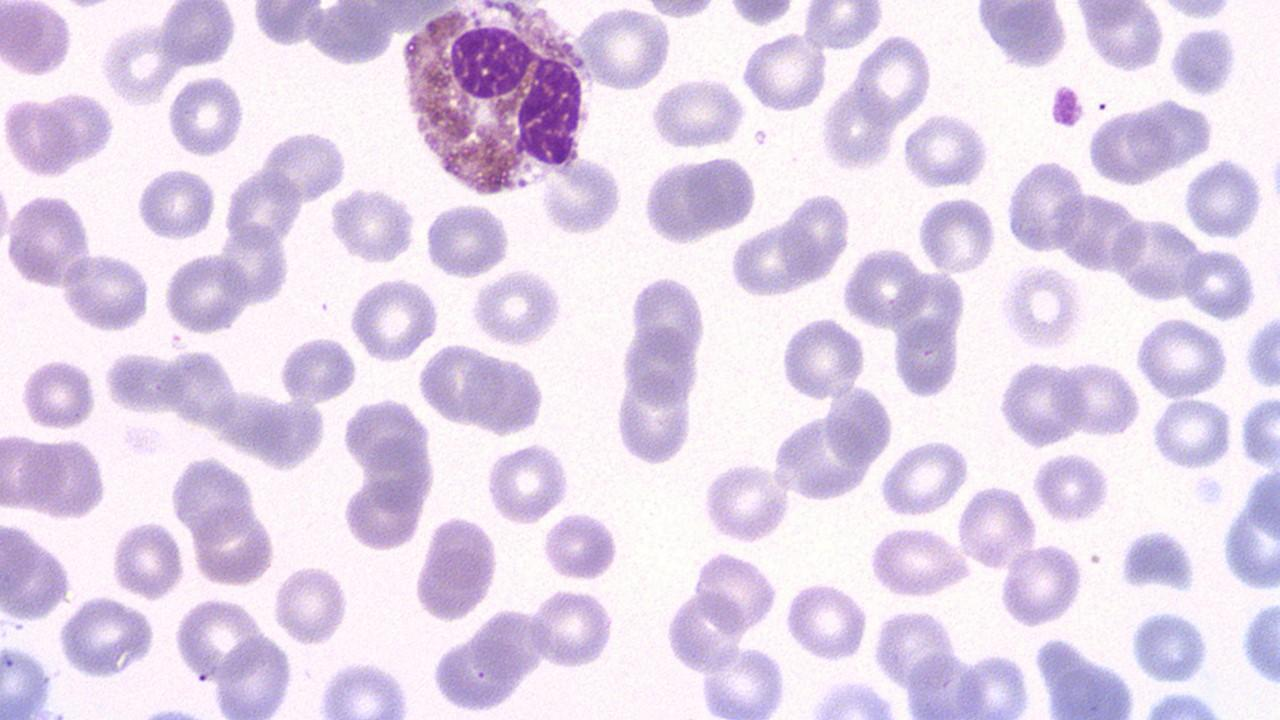Platelets: (1047, 82, 1085, 132), (119, 421, 168, 459), (1190, 473, 1226, 507)
RBC: (770, 412, 875, 505), (415, 512, 501, 622), (3, 192, 92, 290), (574, 5, 672, 91), (172, 594, 264, 684), (348, 273, 438, 365), (1110, 215, 1202, 304), (1134, 315, 1230, 400), (876, 435, 972, 520), (1005, 156, 1087, 255), (996, 358, 1086, 448), (866, 524, 972, 600), (55, 598, 157, 676), (429, 634, 528, 714), (470, 266, 564, 349), (613, 370, 693, 467), (699, 460, 791, 544), (0, 522, 74, 626), (527, 586, 618, 670), (1056, 189, 1144, 275), (999, 262, 1085, 350), (782, 578, 870, 664), (59, 249, 150, 332), (648, 75, 748, 150), (873, 605, 959, 692), (484, 439, 570, 526), (1000, 542, 1085, 630), (854, 33, 934, 126), (162, 250, 248, 336), (840, 243, 928, 327), (692, 548, 780, 632), (1222, 468, 1280, 594), (780, 315, 864, 402), (664, 587, 746, 676), (628, 272, 708, 363), (1084, 108, 1176, 187), (819, 82, 898, 174), (188, 504, 274, 588), (1056, 356, 1142, 440), (98, 19, 180, 107), (738, 32, 826, 114), (641, 158, 720, 249), (697, 642, 789, 720), (169, 456, 256, 538), (955, 482, 1036, 570), (327, 184, 415, 265), (972, 0, 1073, 70), (540, 152, 625, 235), (1182, 155, 1264, 241), (28, 434, 108, 522), (900, 112, 990, 190), (467, 350, 546, 438), (271, 560, 350, 648), (778, 191, 850, 287), (620, 325, 702, 409), (916, 193, 998, 277), (214, 632, 294, 718), (166, 72, 245, 159), (728, 220, 816, 298), (422, 201, 510, 279), (416, 340, 494, 427), (259, 130, 350, 204), (221, 166, 304, 246), (2, 94, 79, 180), (162, 346, 238, 432), (217, 220, 290, 309), (17, 353, 98, 433), (341, 476, 424, 554), (822, 383, 896, 469), (134, 165, 216, 242), (1132, 96, 1214, 172), (1128, 608, 1210, 684), (1030, 450, 1112, 526), (40, 88, 115, 171), (1149, 396, 1233, 470), (1081, 2, 1165, 74), (1180, 244, 1258, 321), (1, 0, 76, 80), (686, 152, 760, 233), (110, 518, 182, 601), (892, 314, 961, 399), (903, 649, 985, 719), (539, 512, 623, 580), (313, 659, 412, 716), (276, 335, 360, 402), (956, 648, 1035, 718), (102, 349, 182, 418), (158, 1, 238, 70), (1166, 24, 1238, 97), (1119, 527, 1197, 594), (0, 432, 60, 510), (802, 0, 882, 50), (1239, 595, 1280, 689), (1244, 310, 1280, 395), (1239, 392, 1279, 466), (720, 1, 798, 28), (1154, 0, 1236, 21)
WBC: (396, 0, 596, 202)
